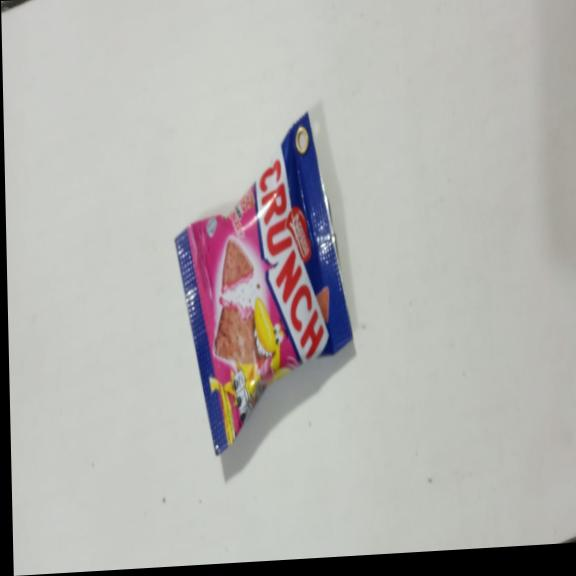Plastik: (168, 107, 356, 458)
